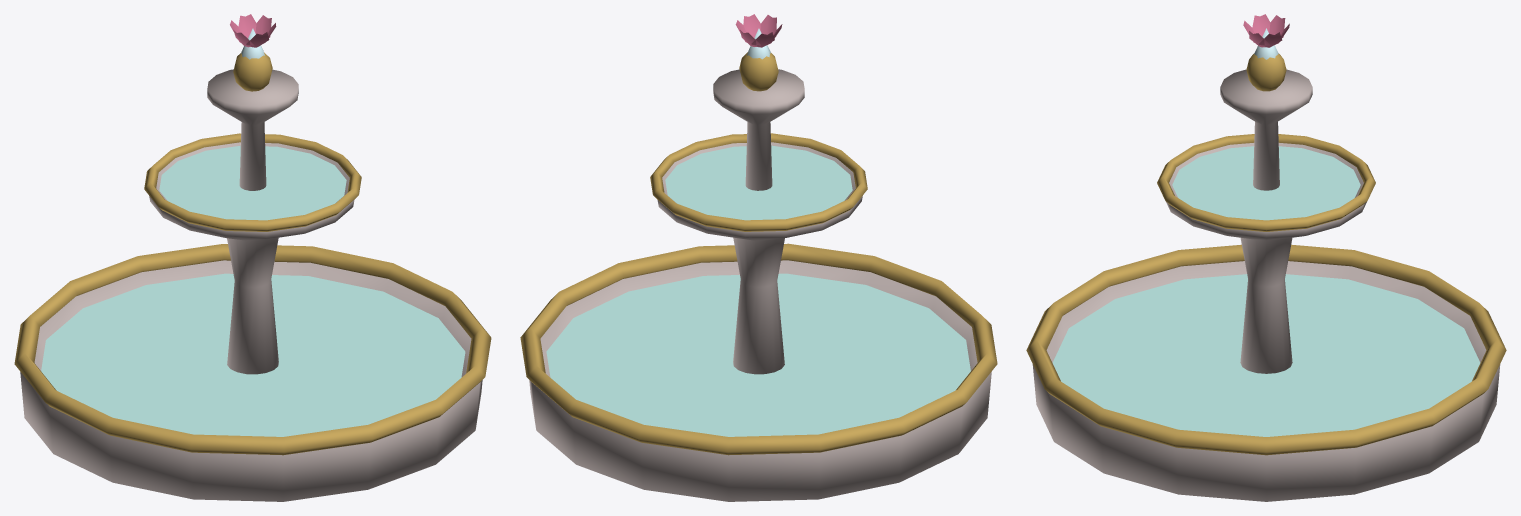
The model's file is fountain_small.glb.
The picture shows the model from 3 angles, left to right: view 1: azimuth 30°, elevation 25°; view 2: azimuth 150°, elevation 25°; view 3: azimuth 270°, elevation 25°; orthographic projection.
Visible parts, largest first — view 1: fountain_small; view 2: fountain_small; view 3: fountain_small.
Part boxes in pixels (x1,y1,x2,y2): fountain_small: (14,14,491,501); fountain_small: (520,14,997,501); fountain_small: (1026,14,1506,501).
Size of what is drawn, in the model's own units: 1.6 by 1.4 by 1.6.
